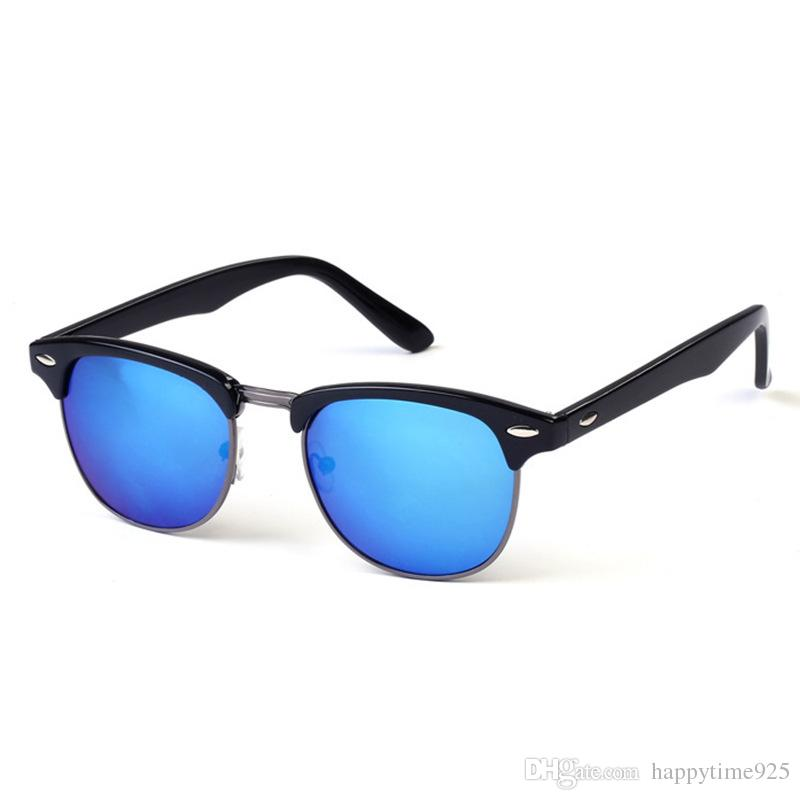sunglasses: (10, 262, 784, 582)
